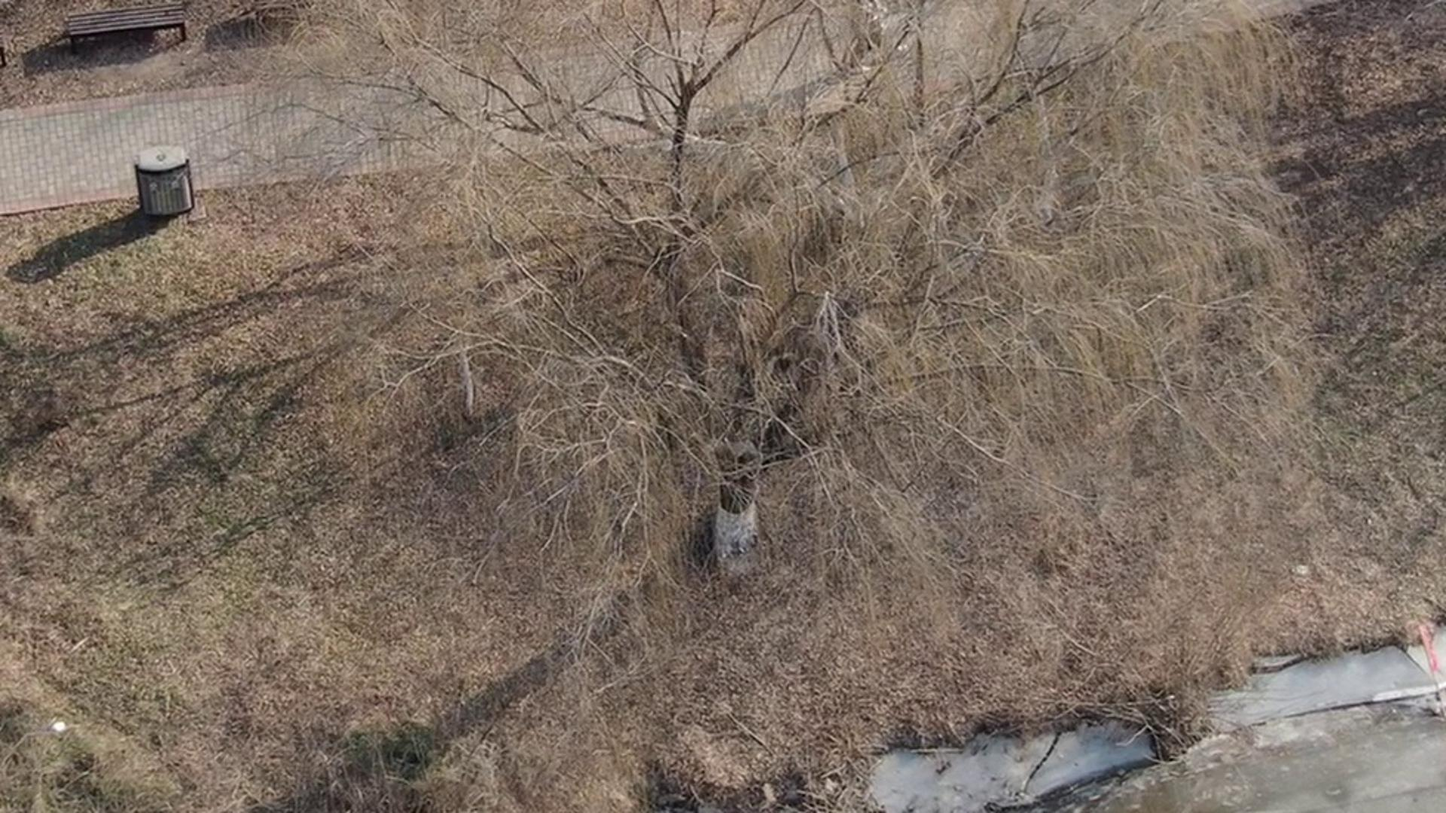human: (840, 1, 889, 87)
